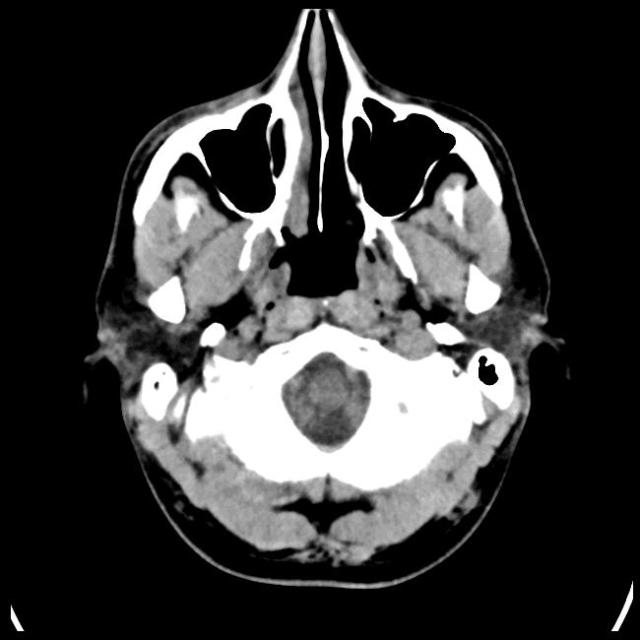lesion: (83, 8, 562, 589)
